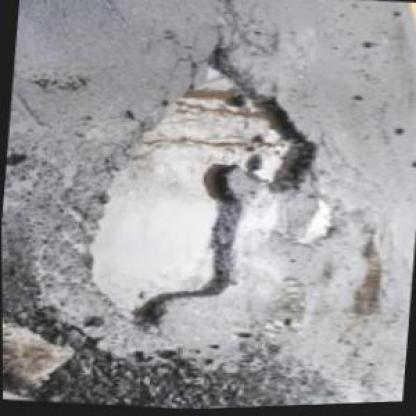pothole: (81, 33, 332, 341), (348, 236, 391, 319), (292, 198, 342, 251)
